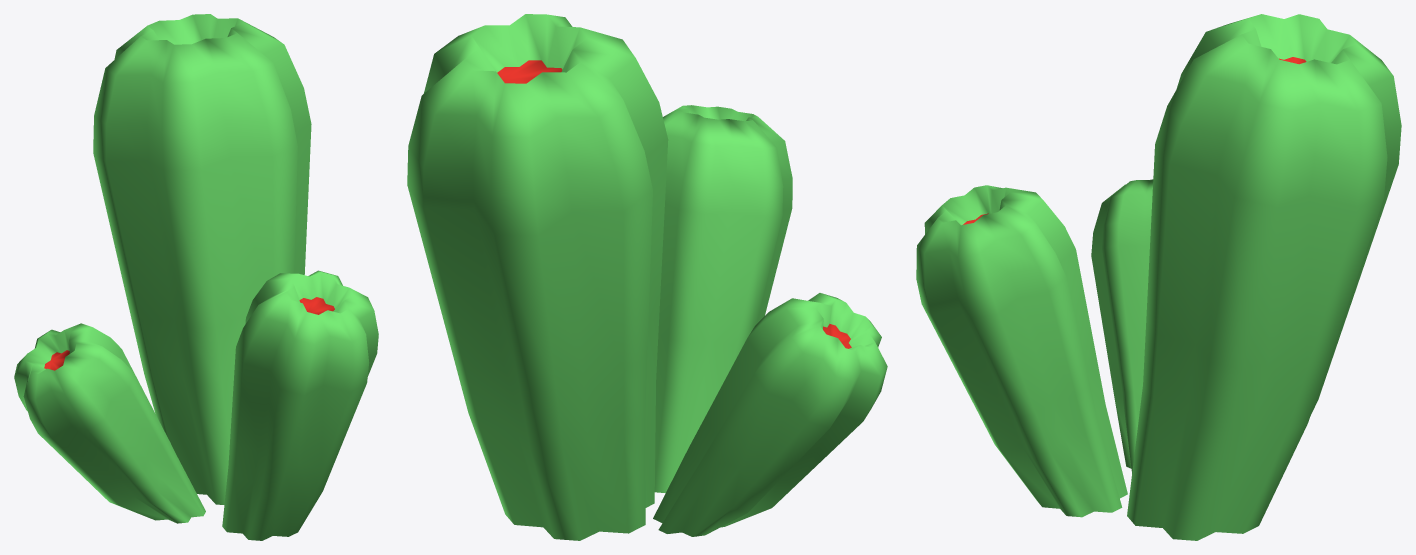
Rendered from Cactus2.fbx.
3 renders of one model, left to right at view 1: azimuth 30°, elevation 25°; view 2: azimuth 150°, elevation 25°; view 3: azimuth 270°, elevation 25°, orthographic. The views are drawn at different scales.
Visible parts, largest first — view 1: Cylinder.019; view 2: Cylinder.019; view 3: Cylinder.019.
Boxes of the visible parts, x1,y1,x2,y2 form: Cylinder.019: (14, 14, 378, 540); Cylinder.019: (407, 14, 887, 540); Cylinder.019: (916, 14, 1401, 540).
Size of the model in its own units: 0.7172 by 0.8875 by 0.8105.
